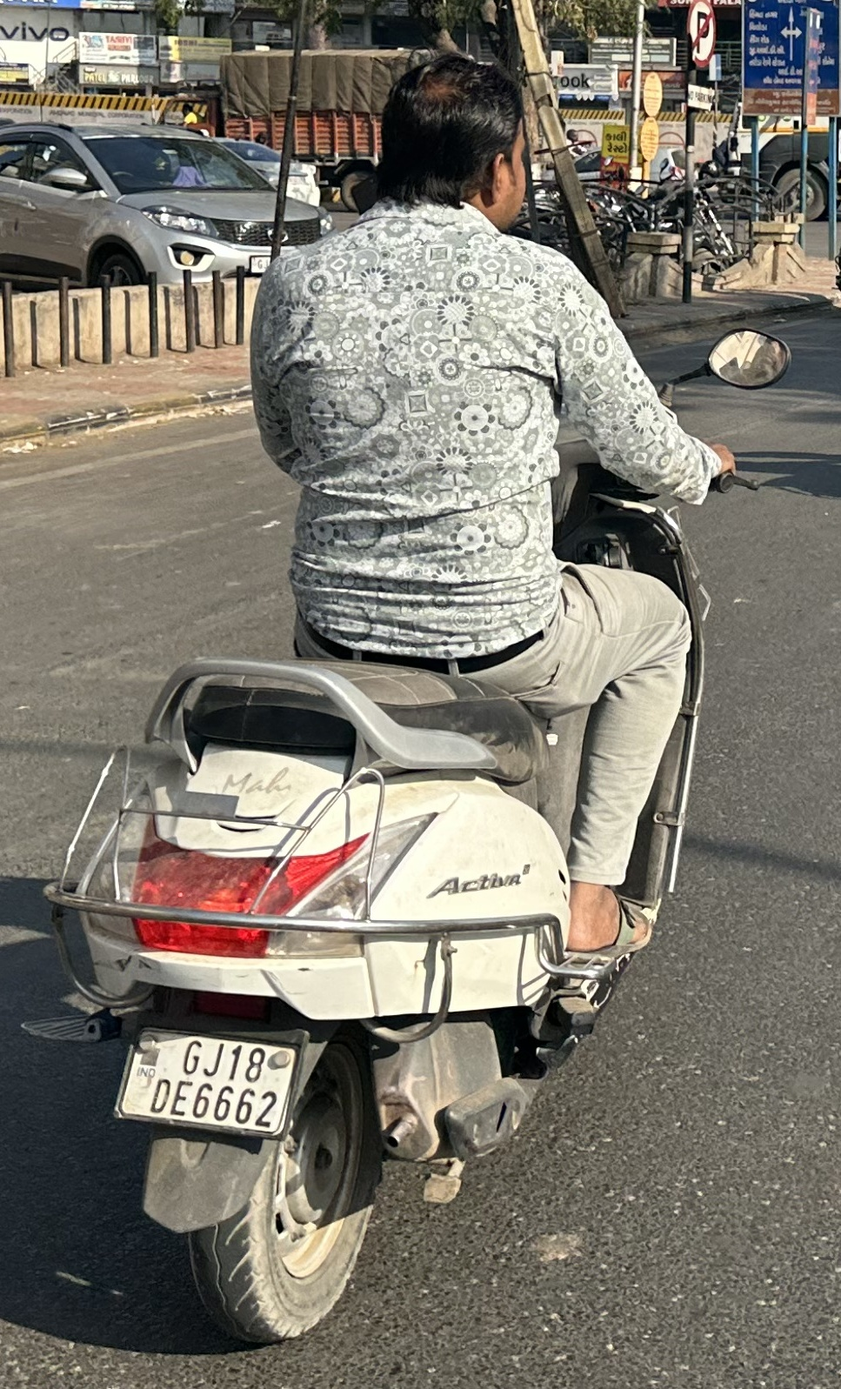BikeWithRider: (30, 37, 805, 1359)
NoHelmet: (354, 41, 549, 243)
